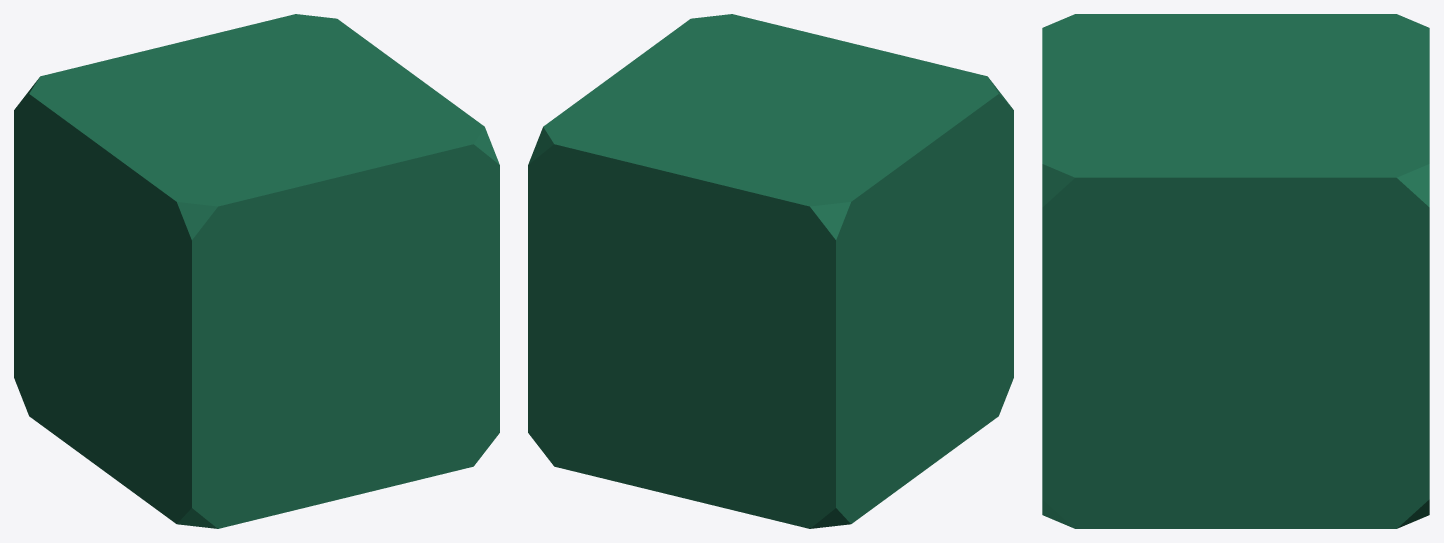
Rendered from dice.glb.
3 renders of one model, left to right at view 1: azimuth 30°, elevation 25°; view 2: azimuth 150°, elevation 25°; view 3: azimuth 270°, elevation 25°, orthographic. The views are drawn at different scales.
Visible parts, largest first — view 1: dice; view 2: dice; view 3: dice.
Boxes of the visible parts, <box> form: dice: <box>14,14,499,528</box>; dice: <box>528,14,1013,528</box>; dice: <box>1042,14,1429,528</box>.
Size of the model in its own units: 1 by 1 by 1.
